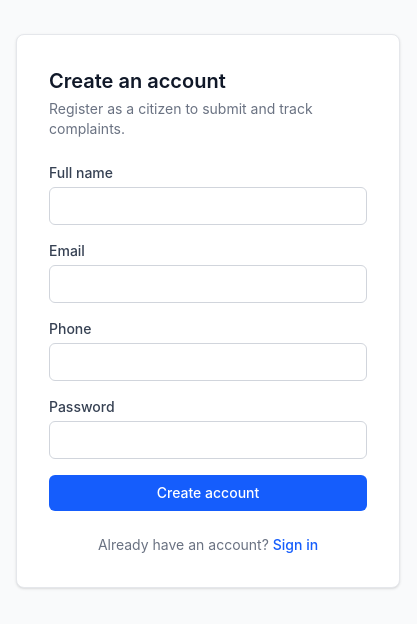
Scenario: RegisterPage › falls back to a generic error message when the API gives nothing usable
The width and height of the screenshot is (417, 624).
Type "Jane Citizen" into the field labelled "Full name". click: (208, 206)
box: [49, 187, 367, 225]
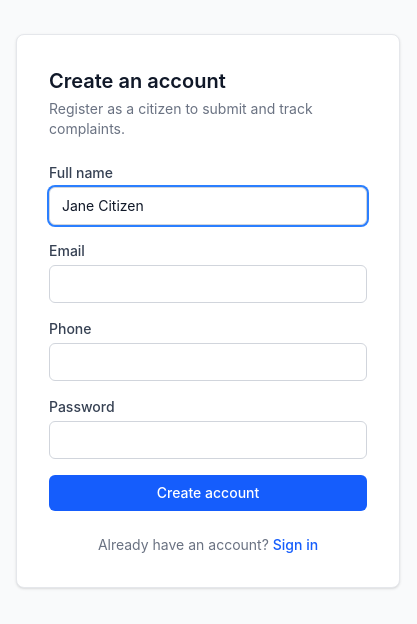
Type "jane@example.com" into the field labelled "Email". click: (208, 284)
box: [49, 265, 367, 303]
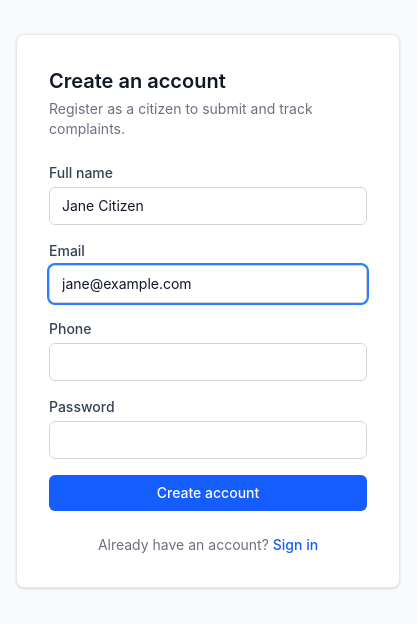
Type "1234567890" into the field labelled "Phone". click: (208, 362)
box: [49, 343, 367, 381]
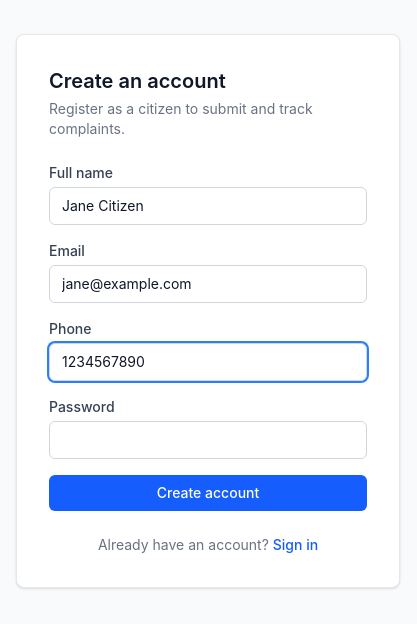
Type "password123" into the password field labelled "Password". click: (208, 440)
box: [49, 421, 367, 459]
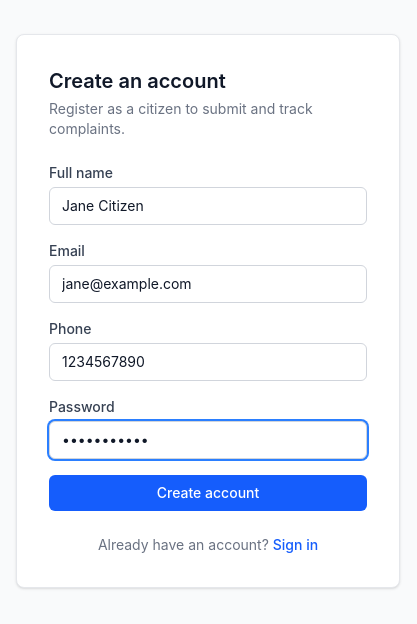
Click the button "Create account". click: (208, 493)
box: [49, 475, 367, 511]
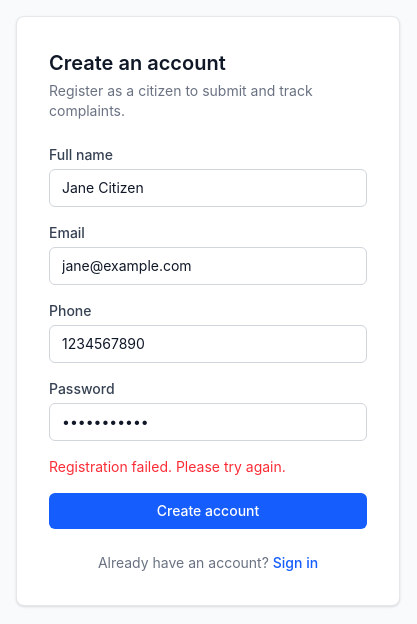
Expected: the text "Registration failed. Please try again." is shown, [49, 458, 286, 475]
